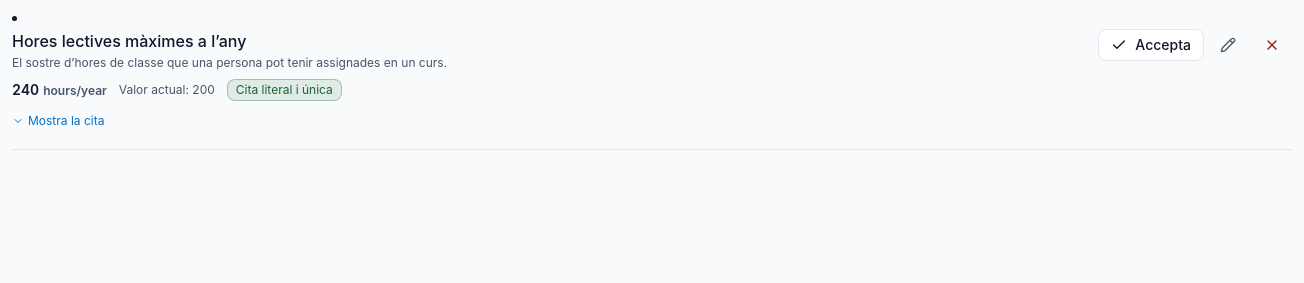
Test: a parameter waiting to be confirmed › folds the citation open, with the article and a way into the document
Click the button "Mostra la cita": (58, 121) [12,113,104,129]
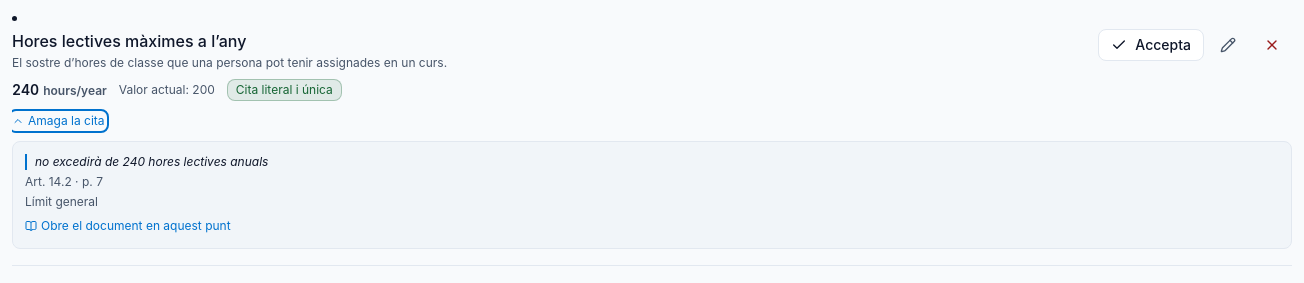
Expected: the text "no excedirà de 240 hores lectives anuals" is shown, [25,154,1279,170]
Expected: the text "Art. 14.2 · p. 7" is shown, [25,174,103,189]
